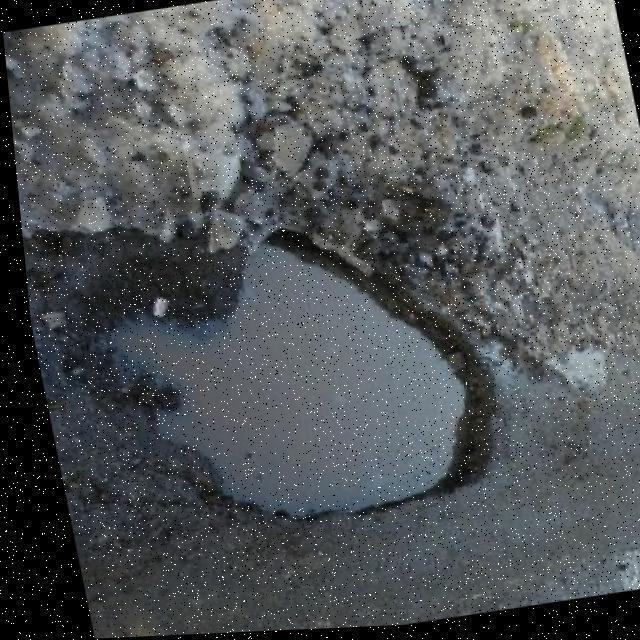Pothole: (28, 108, 512, 538)
